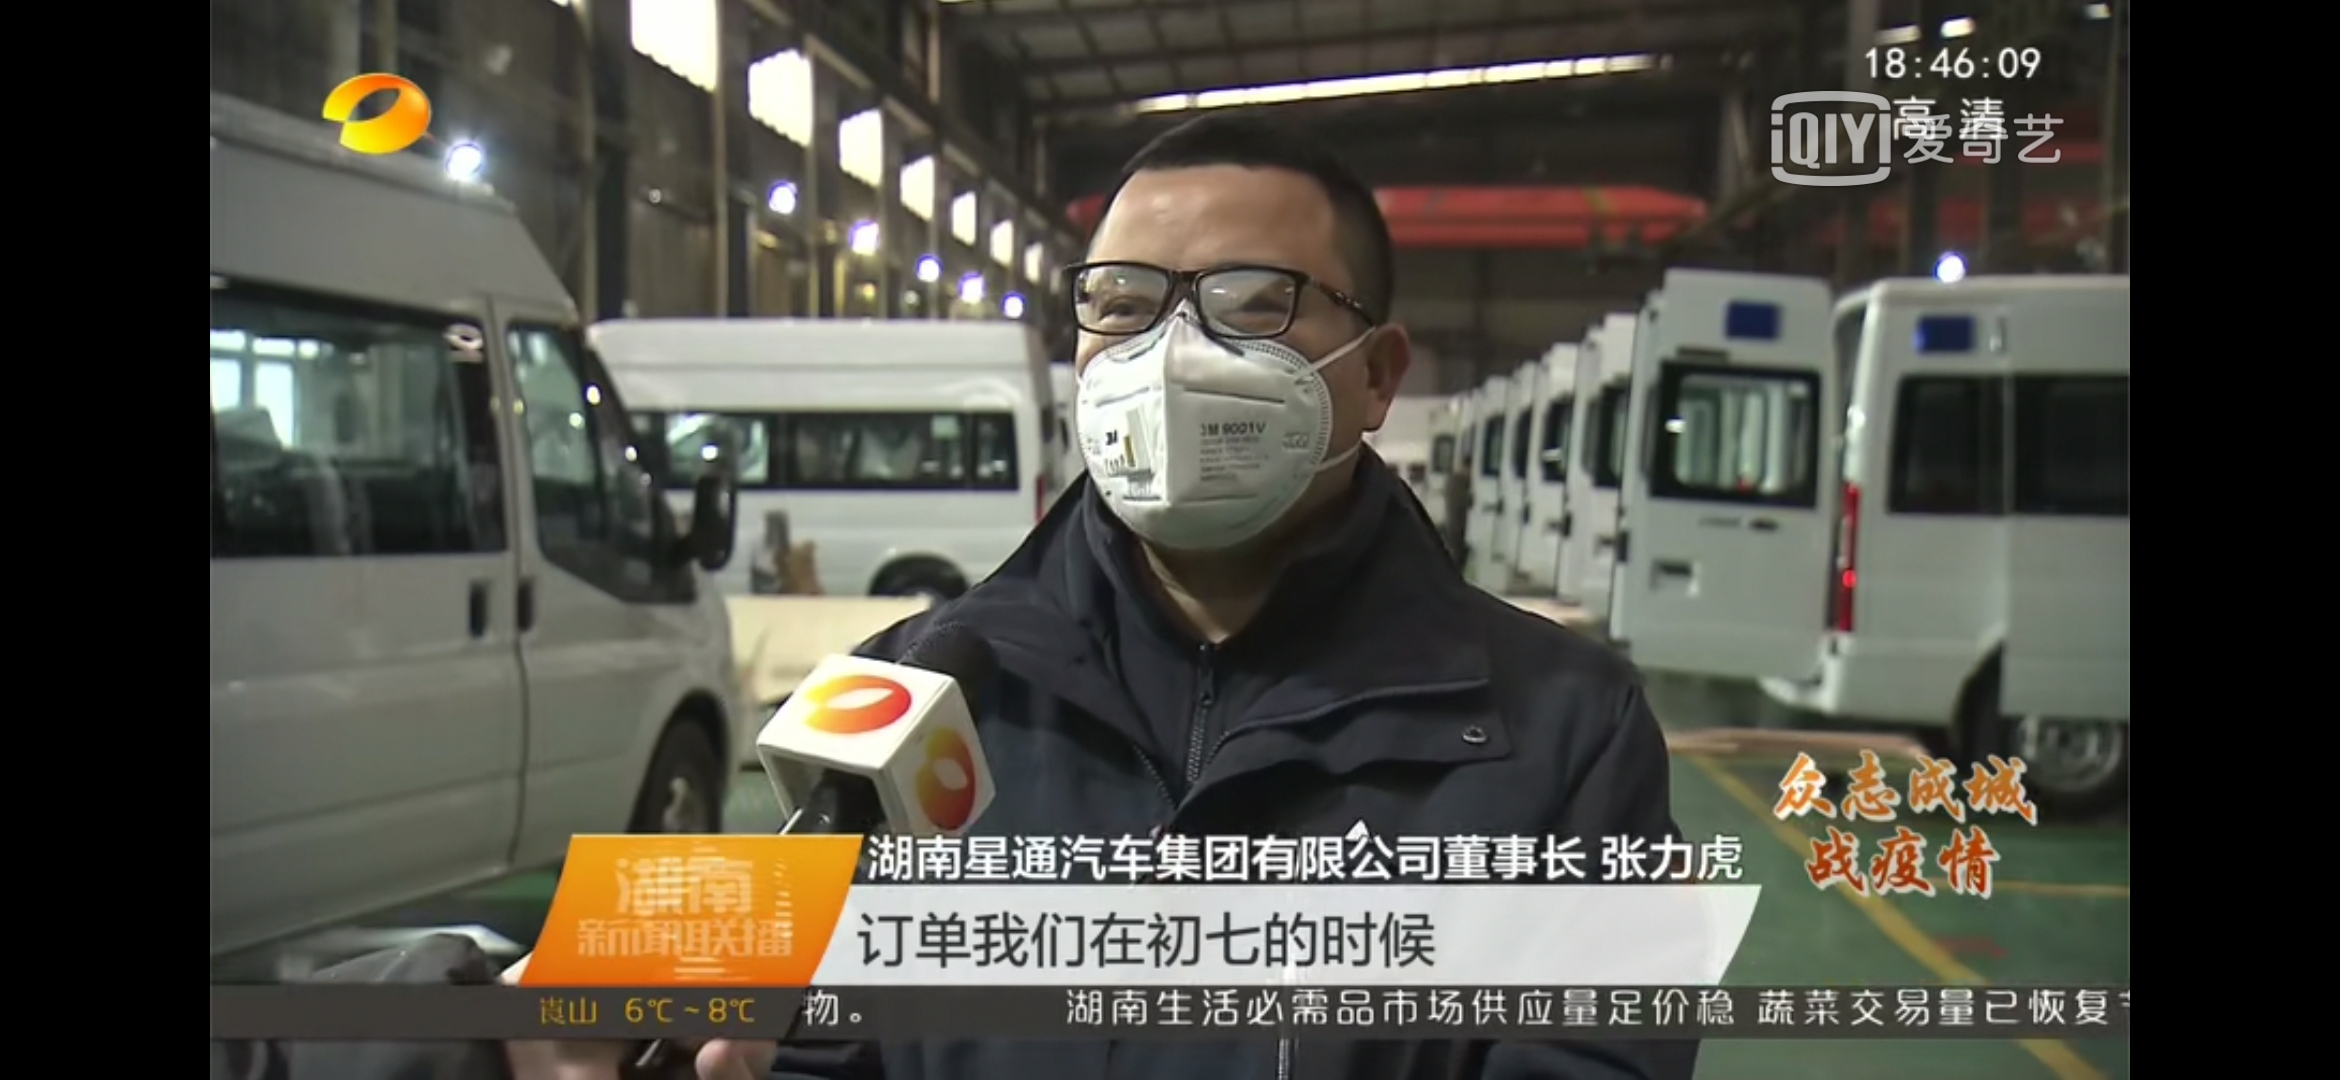correctlyWear: (1063, 227, 1407, 556)
